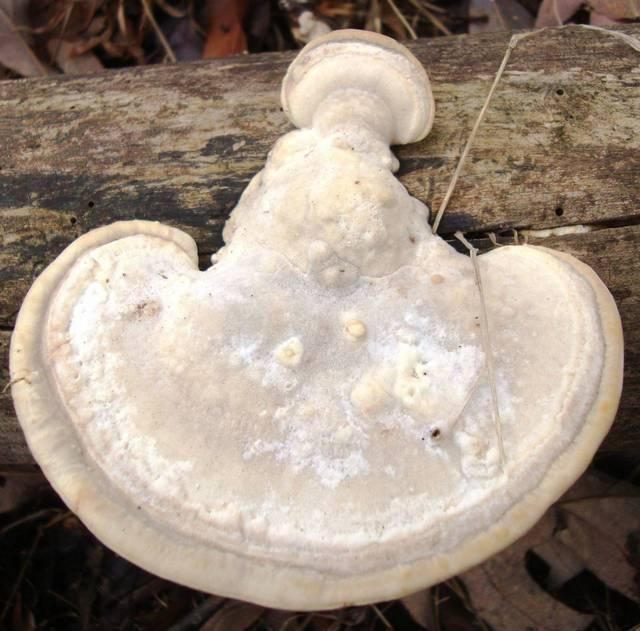poisonous_mushroom: (7, 26, 626, 612)
